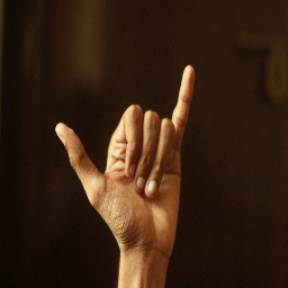J: (52, 65, 200, 246)
